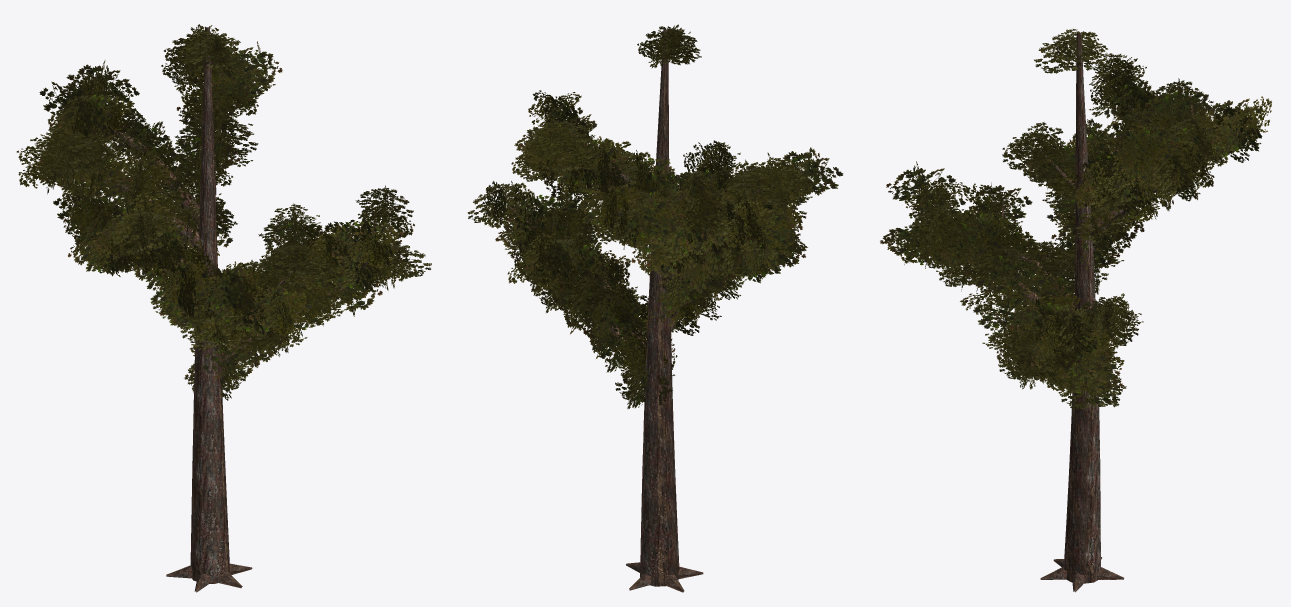
The model's file is tree_3d_01_lod0.glb.
3 views of the same model, side by side, from view 1: azimuth 30°, elevation 25°; view 2: azimuth 150°, elevation 25°; view 3: azimuth 270°, elevation 25° (orthographic).
Parts seen in each view (by area): view 1: foliage_cards, wood_geometry; view 2: foliage_cards, wood_geometry; view 3: foliage_cards, wood_geometry.
Part boxes in pixels (<box>): foliage_cards: <box>16,24,431,400</box>; wood_geometry: <box>68,26,393,592</box>; foliage_cards: <box>467,24,843,408</box>; wood_geometry: <box>508,29,793,592</box>; foliage_cards: <box>880,29,1271,415</box>; wood_geometry: <box>922,32,1240,592</box>.
Size of the model in its own units: 6.77 by 10.07 by 6.7.
2 materials, 2 textured.
